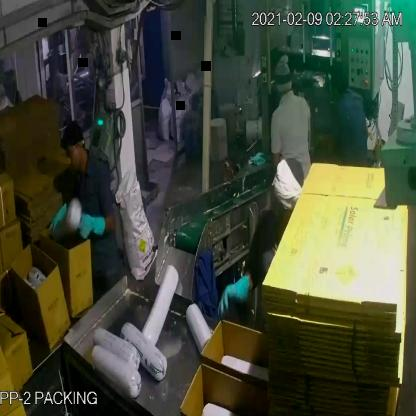glove: (211, 270, 258, 326), (76, 207, 108, 244), (46, 199, 69, 233)
